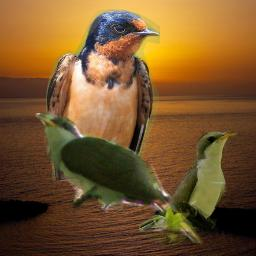Cuckoo: (33, 113, 206, 244), (139, 128, 239, 246)
Swallow: (46, 9, 160, 205)
